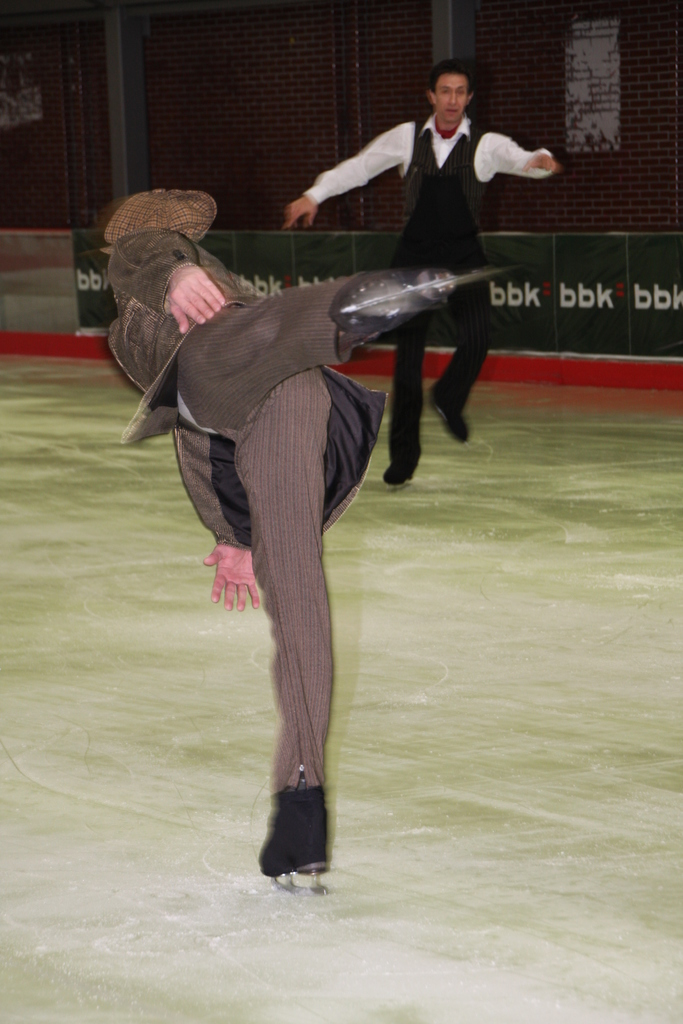Person: (103, 188, 519, 896), (278, 57, 562, 486)
